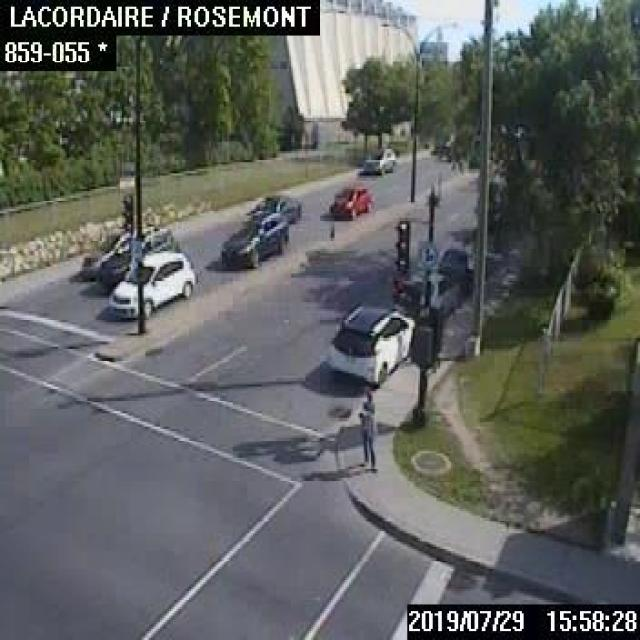pedestrian: (358, 387, 376, 471)
vehicle: (329, 306, 412, 385), (108, 251, 194, 316), (98, 227, 182, 288), (81, 224, 155, 275), (219, 210, 286, 266), (403, 276, 459, 318), (245, 194, 300, 221), (438, 247, 471, 290), (327, 185, 372, 216), (361, 146, 394, 173)
